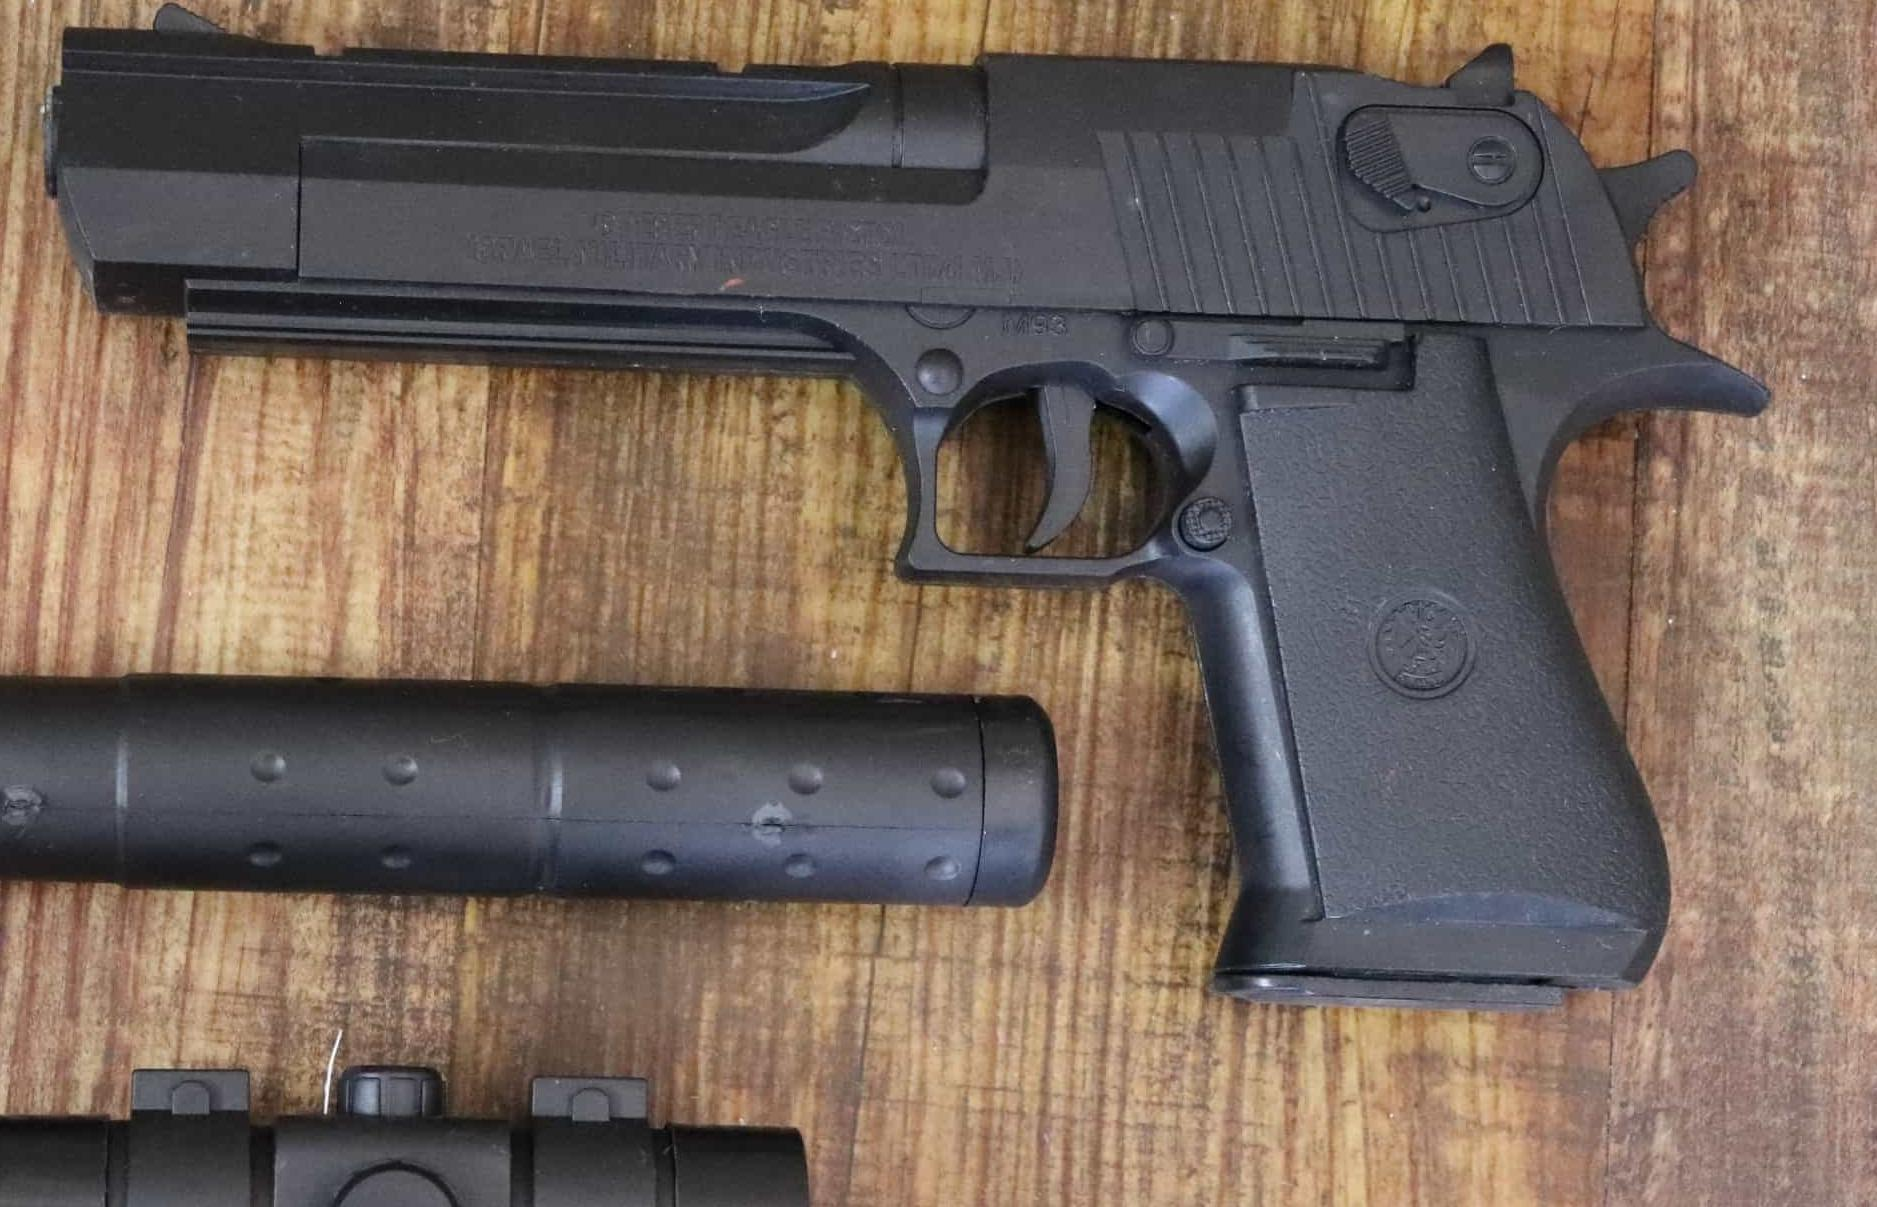gun: (0, 1, 1877, 1207)
